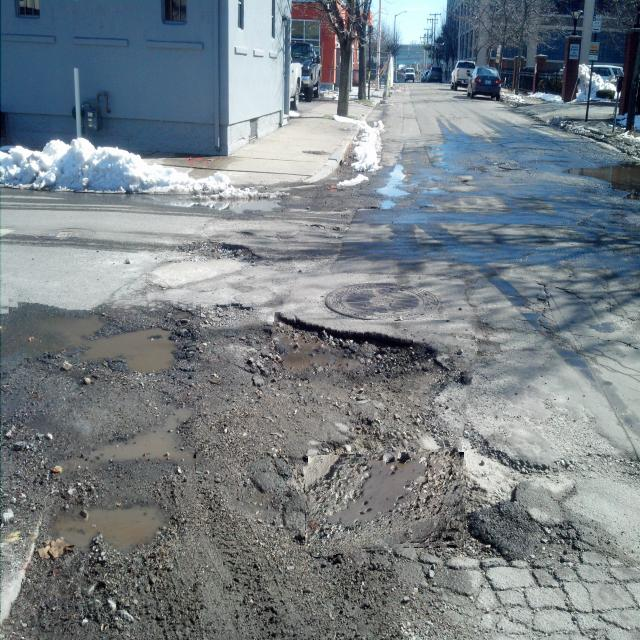Pothole: (4, 295, 196, 640), (262, 320, 475, 447), (305, 452, 467, 552)
